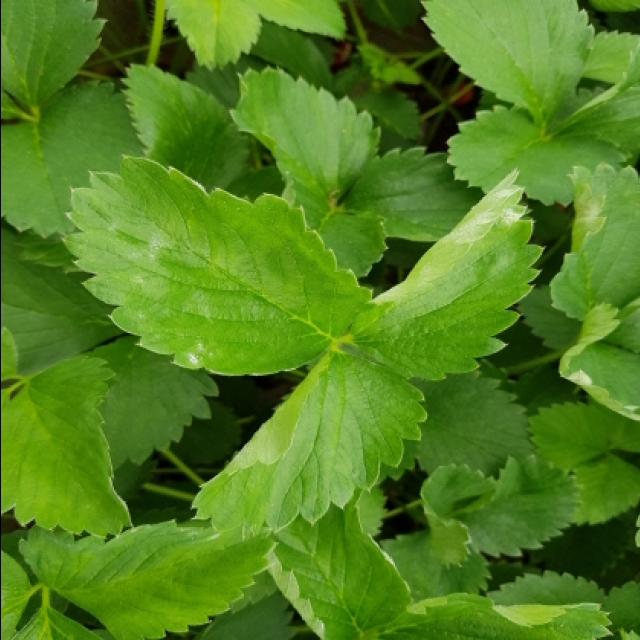Powdery Mildew Leaf: (60, 151, 372, 377), (341, 169, 545, 382), (554, 300, 640, 422)
